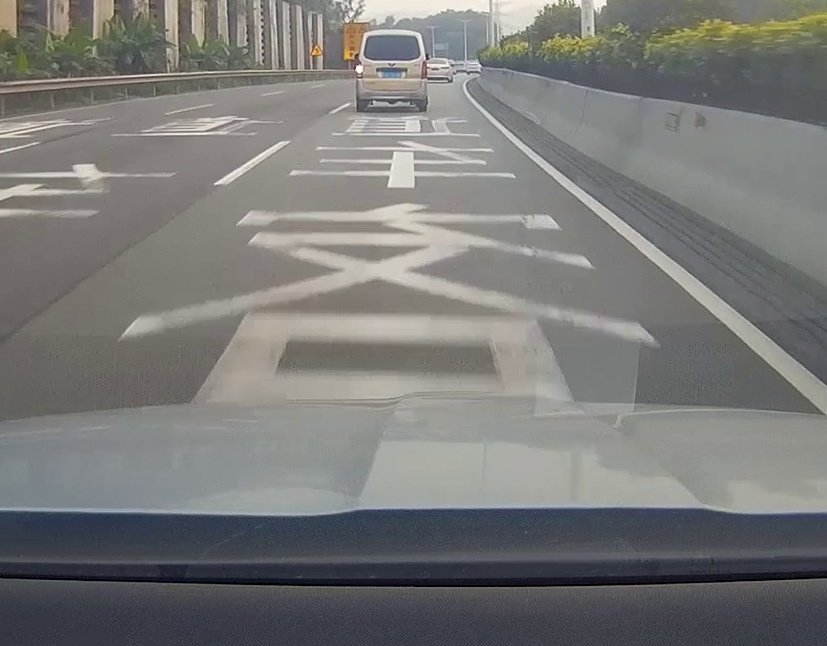L_light: (355, 60, 363, 78)
R_light: (420, 60, 427, 78)
T_light: (388, 33, 397, 36)
day-left: (355, 29, 427, 112)
